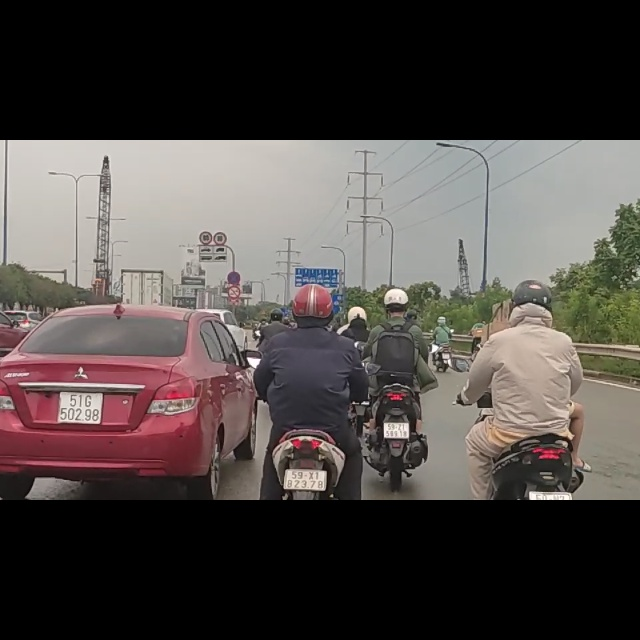bien_chi_dan: (227, 233, 241, 257)
